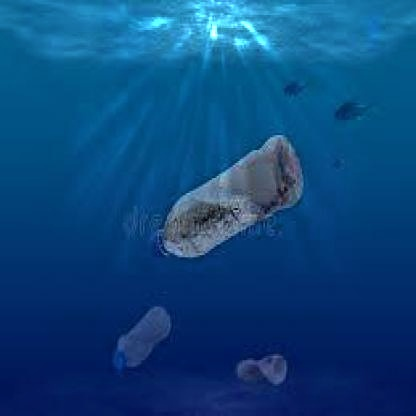pbottle: (143, 131, 304, 264), (109, 298, 177, 380), (223, 350, 294, 392)
